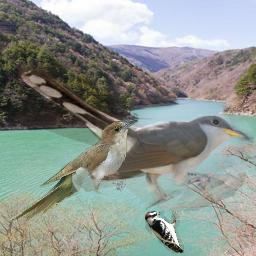Cuckoo: (18, 60, 254, 211), (9, 119, 139, 223)
Woodpecker: (145, 211, 184, 253)
